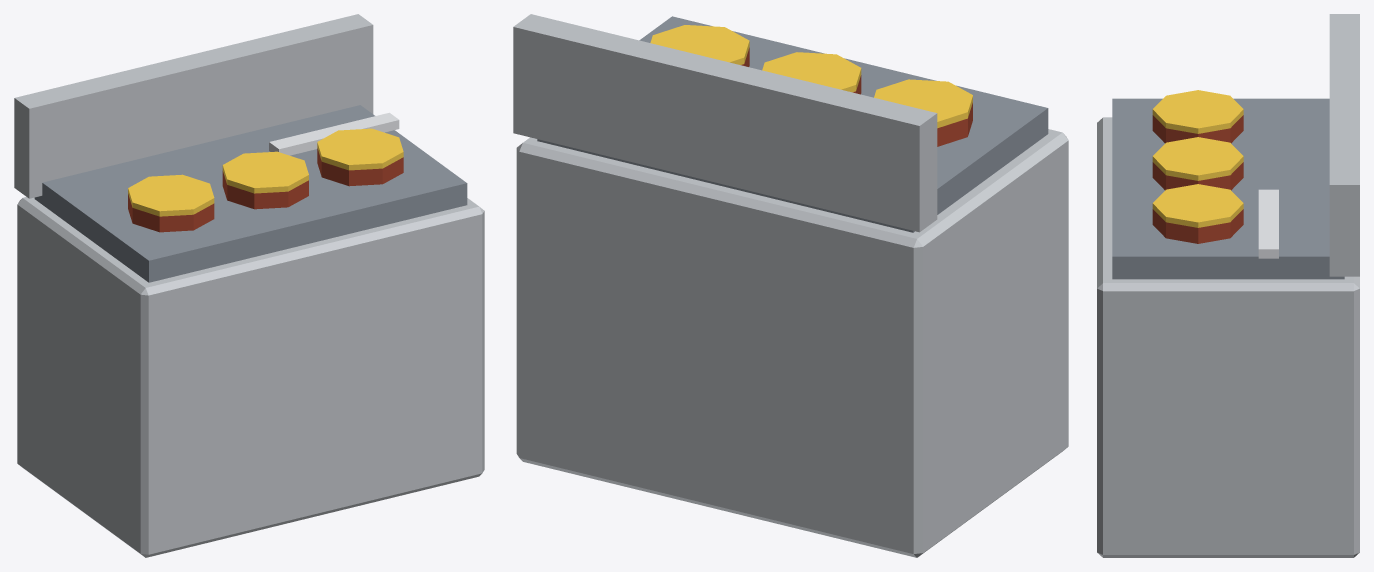
File: FlatGrill.fbx
3 views of the same model, side by side, from view 1: azimuth 30°, elevation 25°; view 2: azimuth 150°, elevation 25°; view 3: azimuth 270°, elevation 25° (orthographic). The views are drawn at different scales.
Visible parts, largest first — view 1: FlatGrill; view 2: FlatGrill; view 3: FlatGrill.
Part boxes in pixels (bbox=[...]): FlatGrill: bbox=[14, 14, 484, 557]; FlatGrill: bbox=[513, 14, 1068, 557]; FlatGrill: bbox=[1097, 14, 1359, 557].
Bounding box in the file's own units: 4 × 4.1 × 2.6.
Materials: 1 (1 with a texture image).
